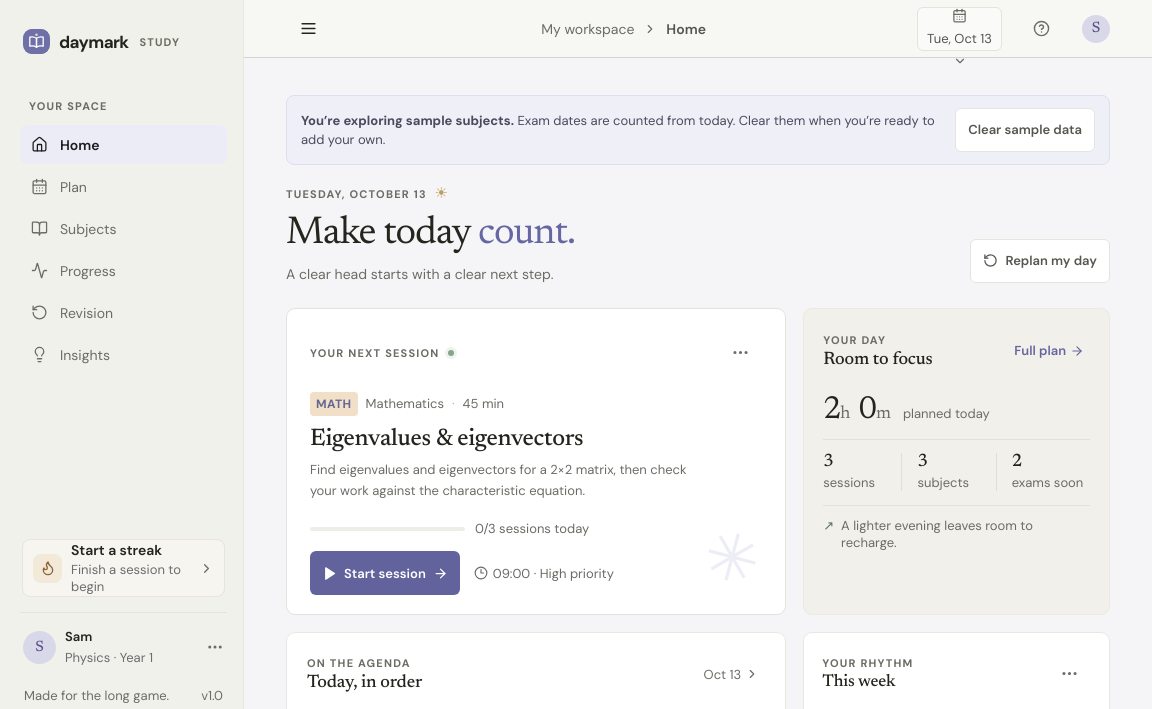
navigation › moves the plan between weeks and back to today
Click the button "Plan" at (124, 186), box [20,167,227,206]
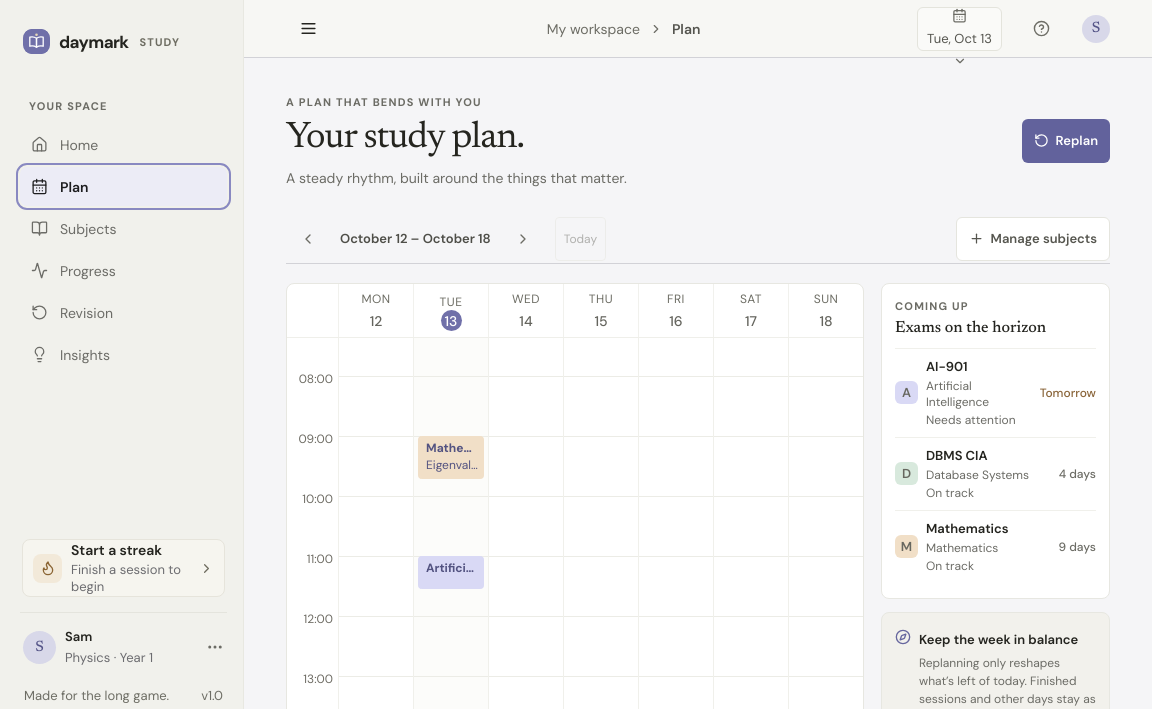
Expected: the text "October 12 – October 18" is shown, [340,230,491,247]
Click the button named "Next week" at (523, 239), box [501,217,545,261]
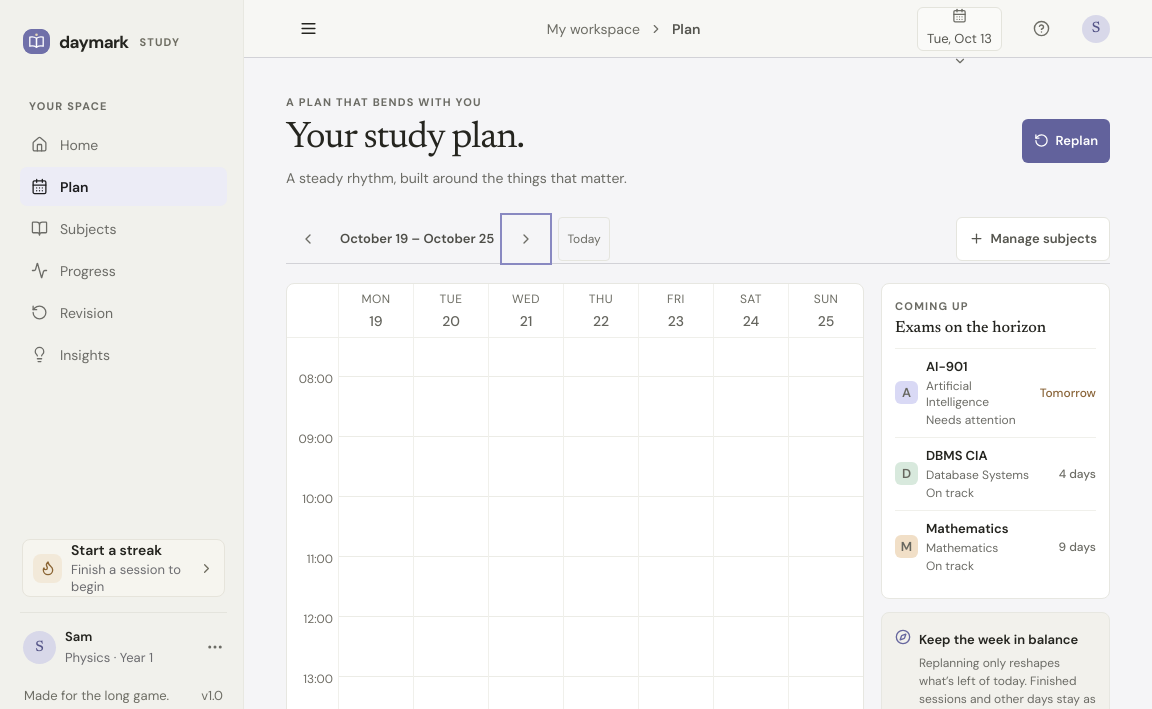
Expected: the text "October 19 – October 25" is shown, [340,230,494,247]
Click the button "Today" at (584, 239), box [558,217,610,261]
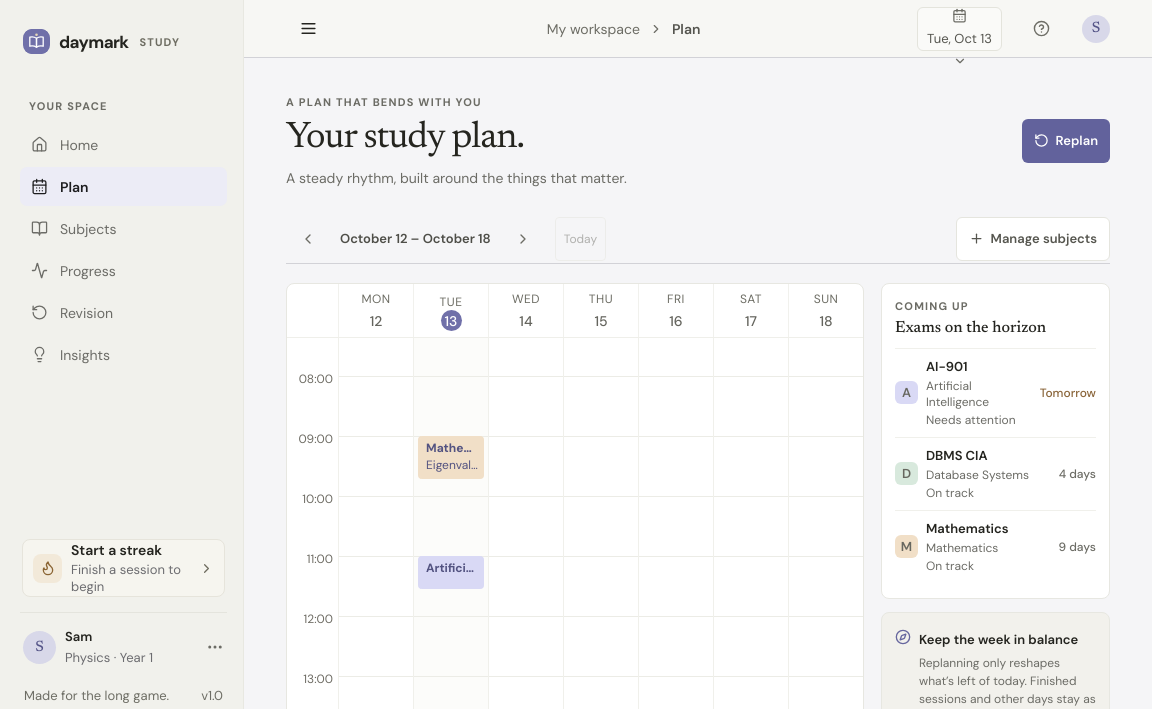
Expected: the text "October 12 – October 18" is shown, [340,230,491,247]
